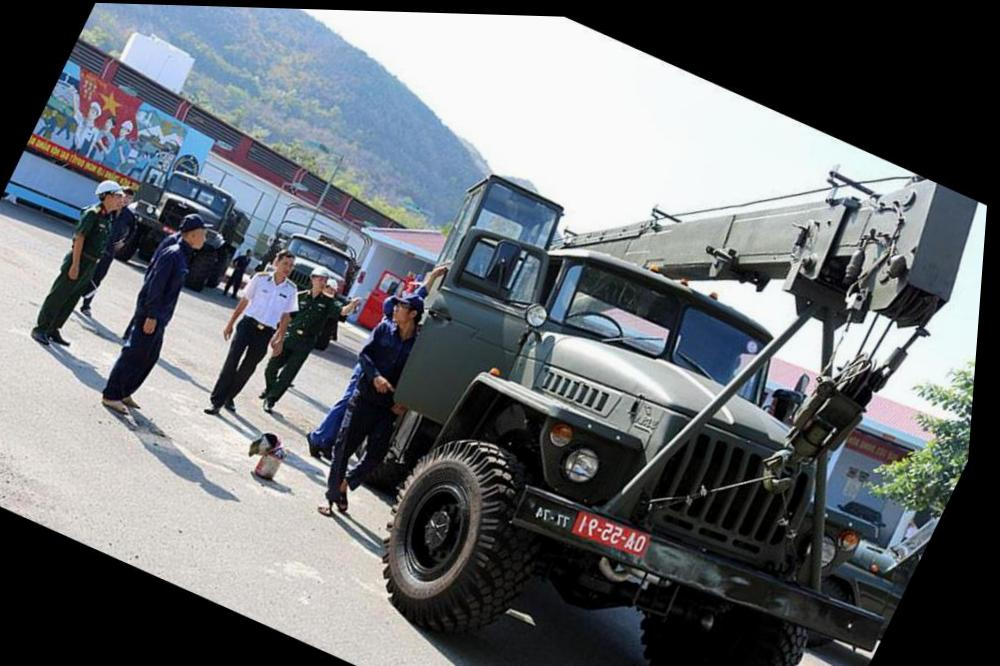License_Plate: (572, 502, 654, 555)
